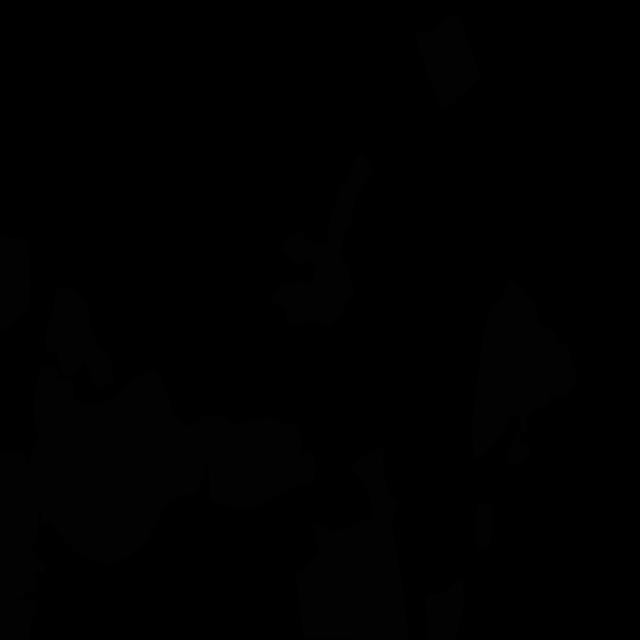cardboard: (28, 365, 206, 564), (296, 448, 410, 640), (472, 279, 578, 467), (271, 153, 372, 327), (198, 413, 316, 508), (0, 451, 45, 613), (45, 287, 114, 388), (415, 15, 481, 108), (0, 237, 30, 333), (425, 580, 464, 640), (0, 599, 37, 639), (475, 502, 493, 549)
